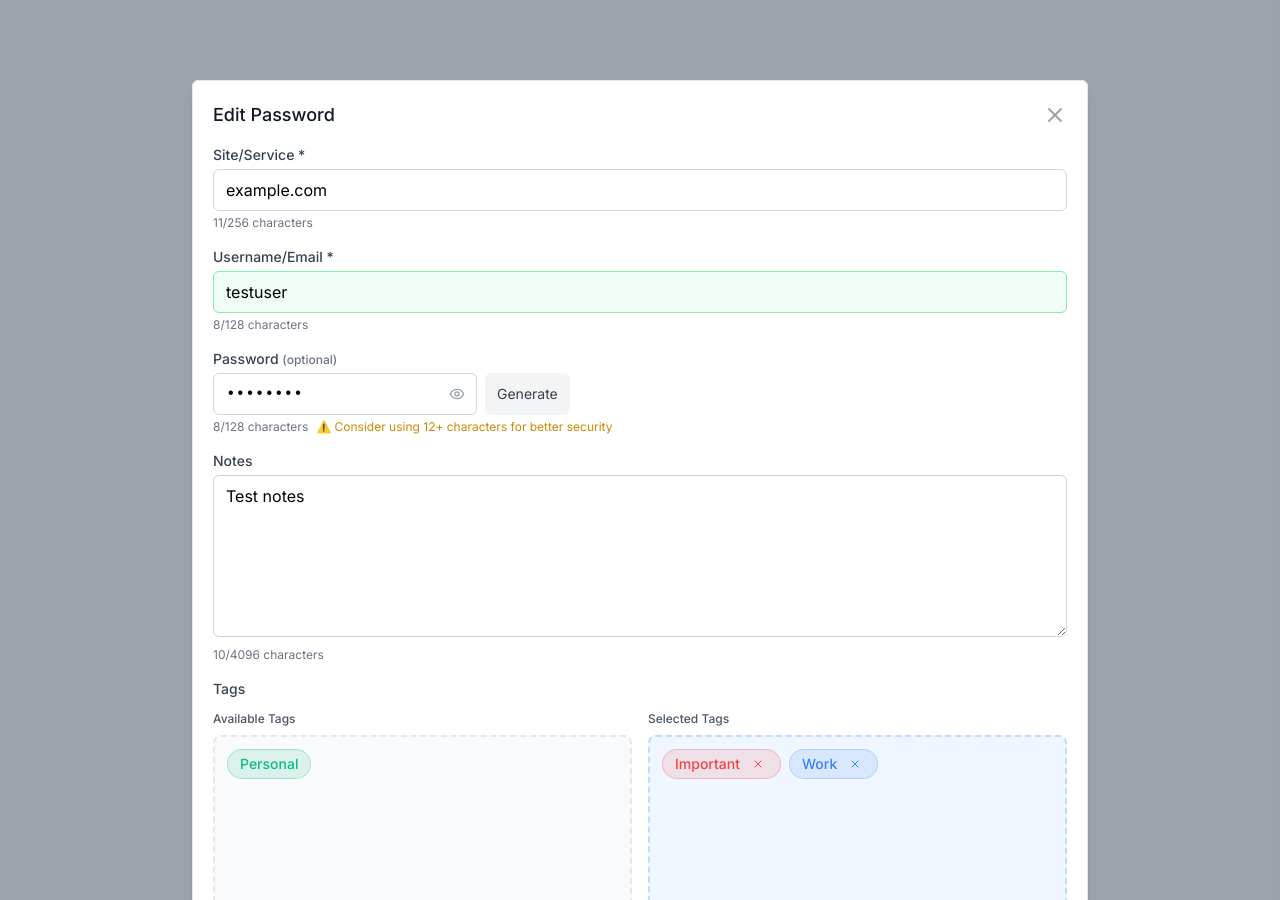
Scenario: PasswordForm with Drag and Drop Tags › should remove tag from selected when X button is clicked
The image size is (1280, 900).
Expected: the text "Selected Tags" shows "Work", [802,755,837,772]
Click the button without text next to "Work": (855, 764) [845,754,865,774]
(page scrolled)
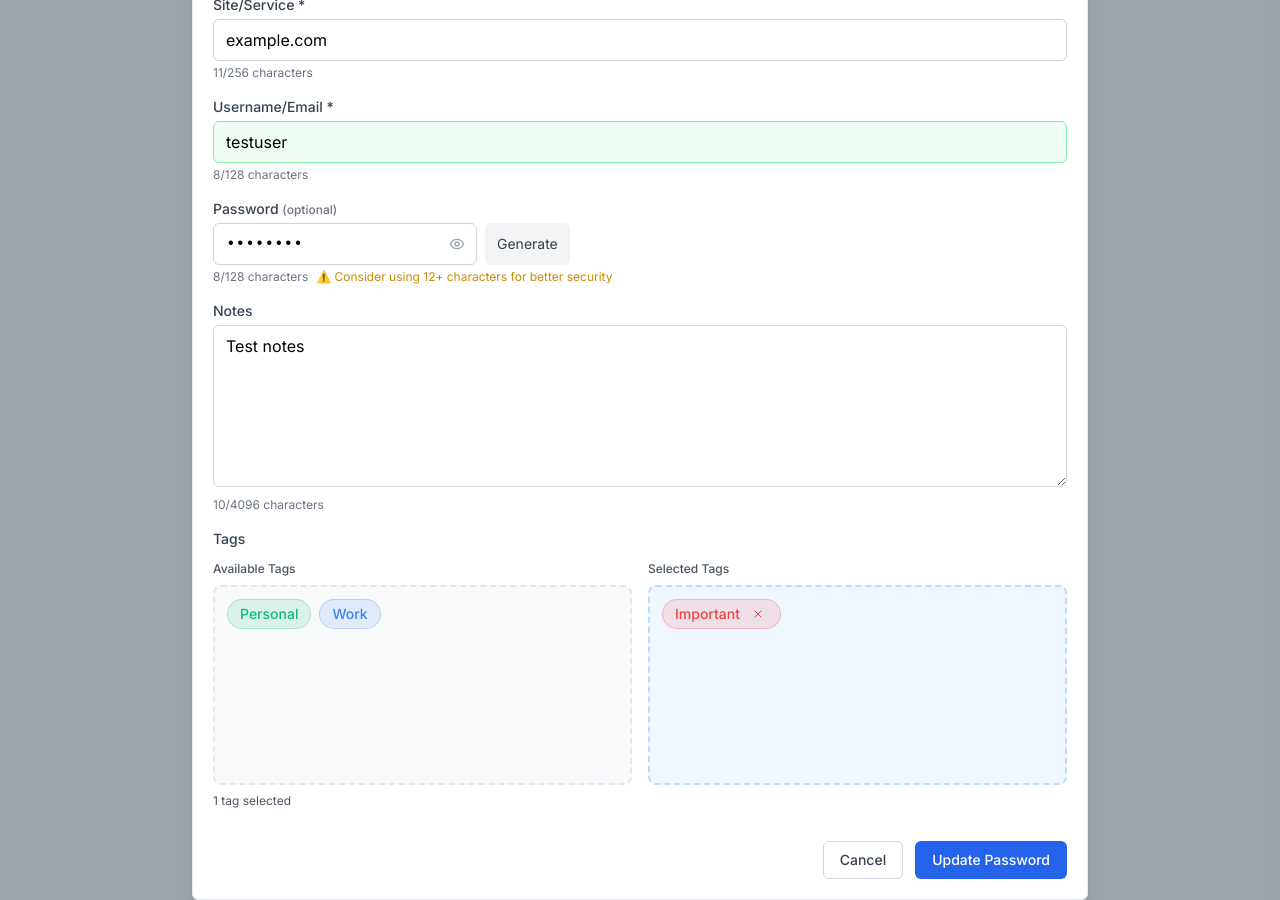
Expected: the text "Available Tags" shows "Work", [332,605,368,622]
